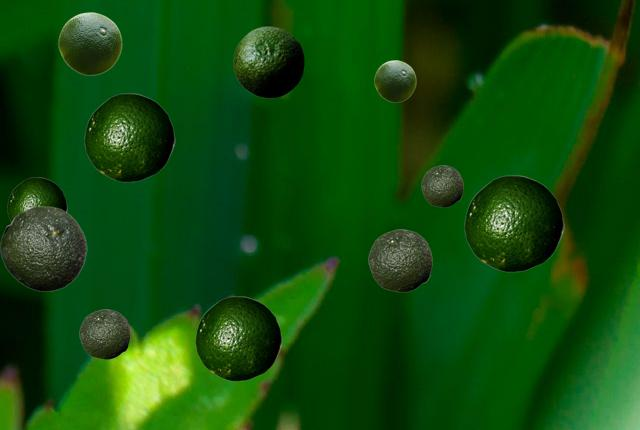calamansi: (464, 175, 563, 271), (84, 93, 174, 181), (195, 296, 281, 380), (0, 206, 86, 290), (233, 26, 303, 97), (58, 12, 121, 74), (368, 229, 431, 291), (7, 177, 66, 222), (79, 309, 129, 358), (421, 165, 462, 206), (374, 60, 415, 101)
